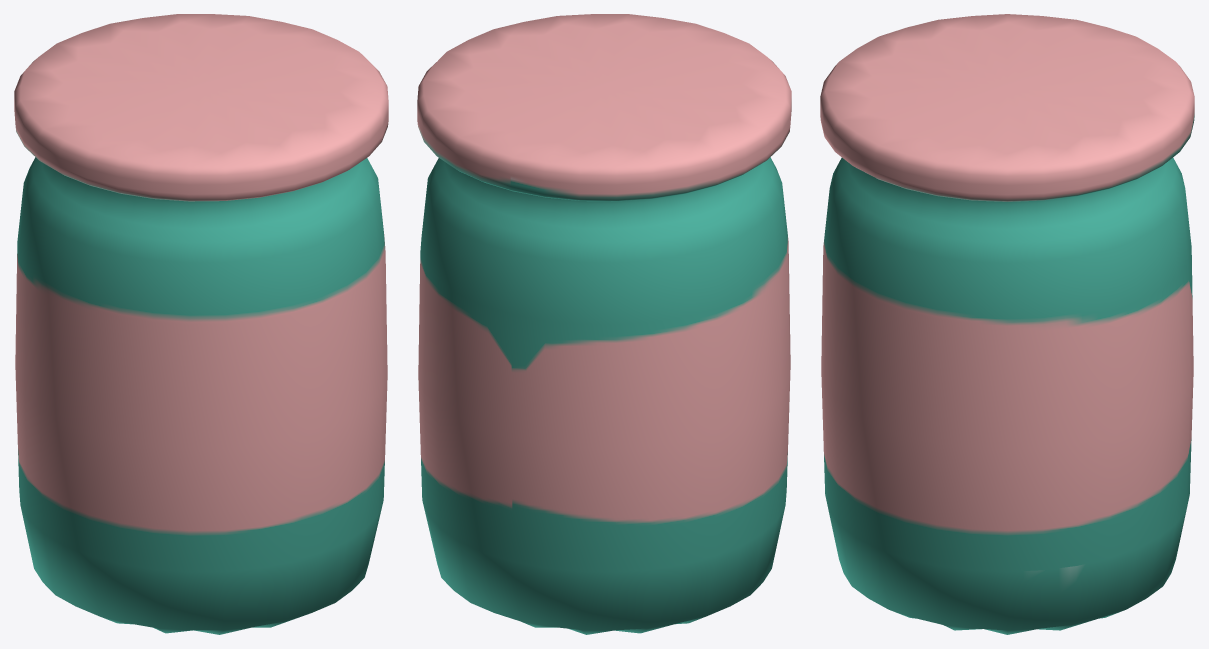
Rendered from Flask_003.glb.
The picture shows the model from 3 angles, left to right: view 1: azimuth 30°, elevation 25°; view 2: azimuth 150°, elevation 25°; view 3: azimuth 270°, elevation 25°; orthographic projection.
Parts seen in each view (by area): view 1: Flask.003; view 2: Flask.003; view 3: Flask.003.
Part boxes in pixels (box(x1,y1,x2,y2)): Flask.003: box(14, 14, 388, 634); Flask.003: box(417, 14, 791, 634); Flask.003: box(820, 14, 1194, 634).
Bounding box in the file's own units: 0.1113 × 0.1635 × 0.1113.
1 material, 1 textured.
